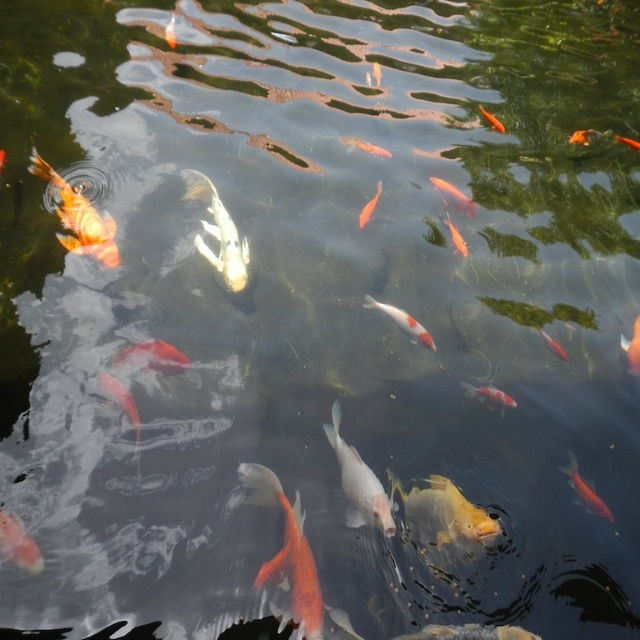Goldfish: (239, 466, 356, 636), (27, 170, 115, 269), (362, 297, 437, 353), (558, 449, 613, 523), (99, 375, 138, 470), (116, 336, 190, 379), (0, 506, 43, 569), (460, 384, 518, 418), (429, 179, 480, 209), (531, 321, 569, 359), (620, 318, 640, 371), (360, 185, 381, 229), (447, 215, 468, 259), (479, 106, 505, 133), (568, 130, 611, 146), (353, 141, 391, 157), (618, 135, 639, 149), (0, 149, 5, 173)
